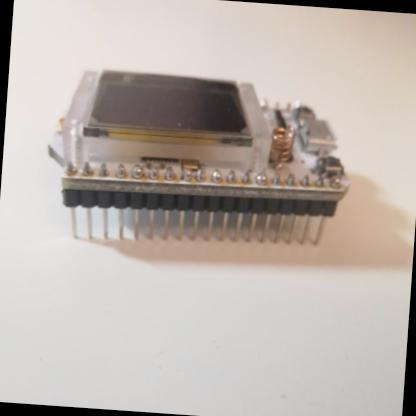Heltec_ESP32_Lora: (41, 61, 362, 256)
